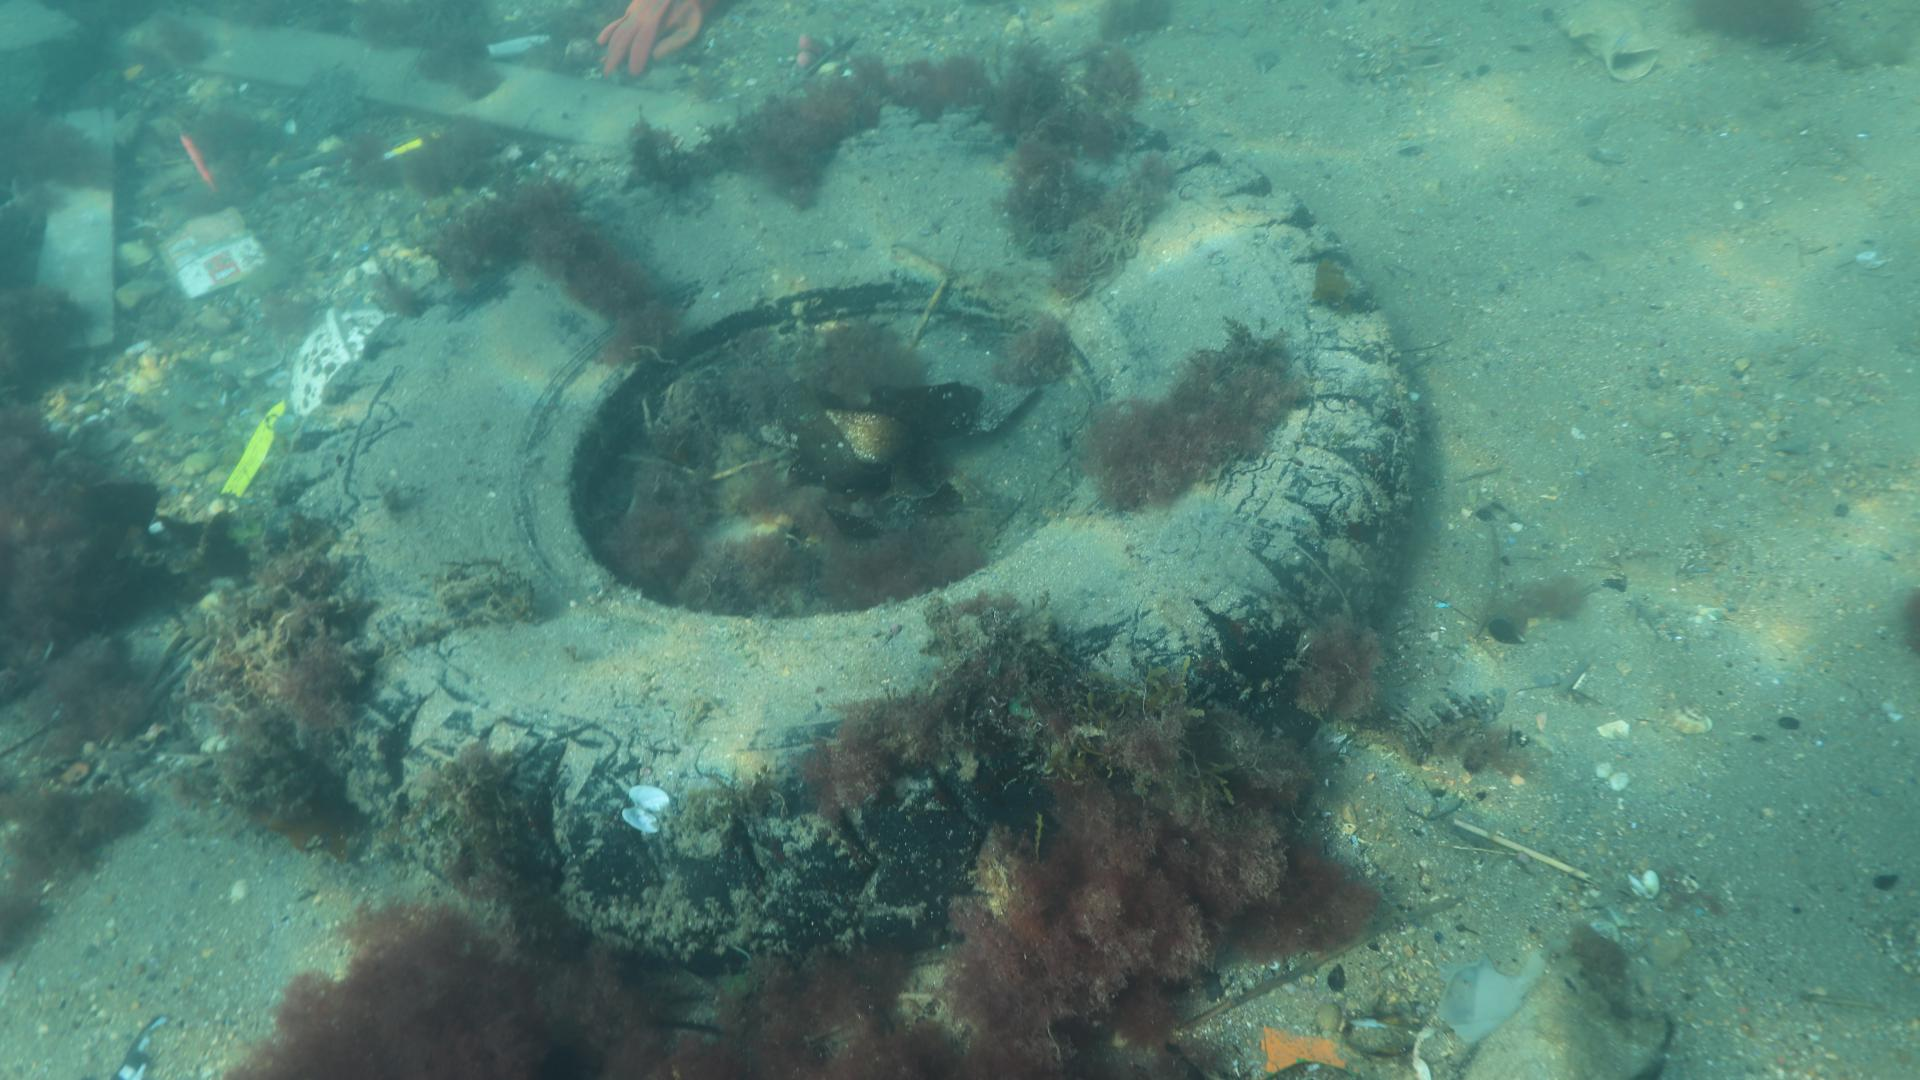tire: (264, 82, 1418, 968)
